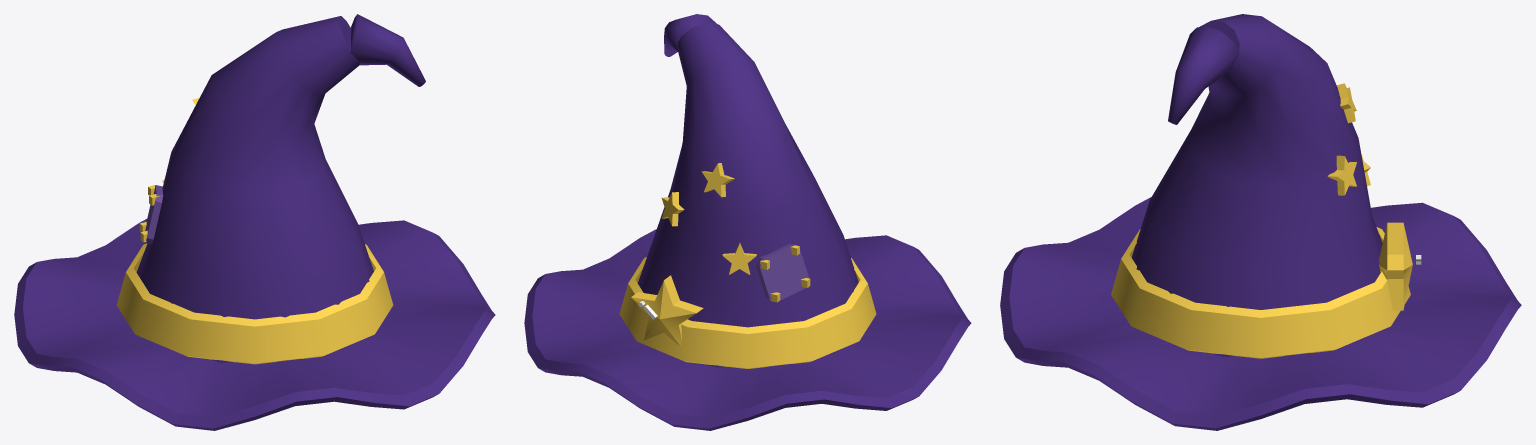
Rendered from chapeau_sorcier.fbx.
The picture shows the model from 3 angles, left to right: view 1: azimuth 30°, elevation 25°; view 2: azimuth 150°, elevation 25°; view 3: azimuth 270°, elevation 25°; orthographic projection. The views are drawn at different scales.
Parts seen in each view (by area): view 1: Chapeau, Anim_Pointe; view 2: Chapeau, Anim_Pointe; view 3: Chapeau, Anim_Pointe.
Part boxes in pixels (bbox=[...]): Chapeau: bbox=[14, 16, 495, 430]; Anim_Pointe: bbox=[350, 14, 425, 86]; Chapeau: bbox=[524, 22, 971, 430]; Anim_Pointe: bbox=[664, 14, 716, 56]; Chapeau: bbox=[1000, 14, 1521, 430]; Anim_Pointe: bbox=[1168, 26, 1239, 124].
Bounding box in the file's own units: 1.12 × 0.8092 × 1.12.
